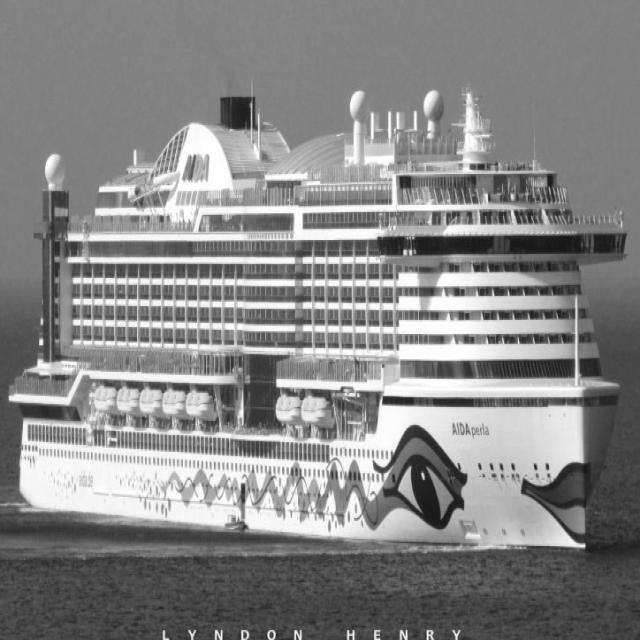cruises: (8, 62, 634, 573)
